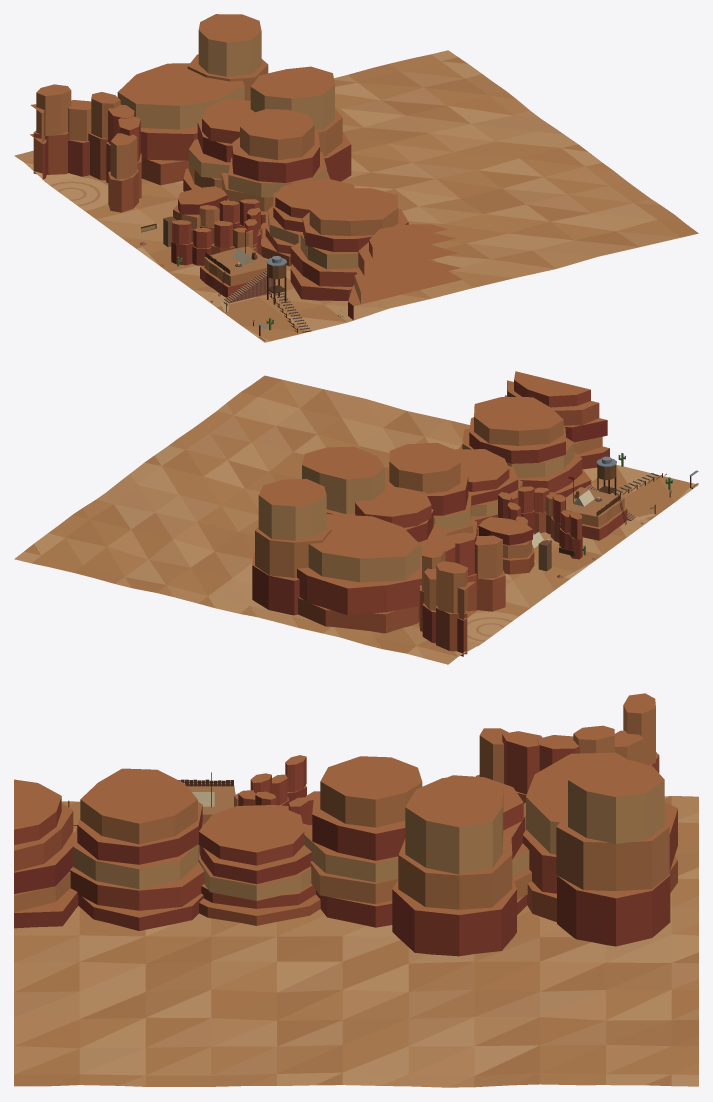
3 views of the same model, one above another, from view 1: azimuth 30°, elevation 25°; view 2: azimuth 150°, elevation 25°; view 3: azimuth 270°, elevation 25° (orthographic). The views are drawn at different scales.
Parts seen in each view (by area): view 1: baked; view 2: baked; view 3: baked.
Boxes of the visible parts, x1,y1,x2,y2 form: baked: (14,14,698,342); baked: (14,371,698,664); baked: (14,693,698,1087).
Bounding box in the file's own units: 125 × 29.77 × 125.
